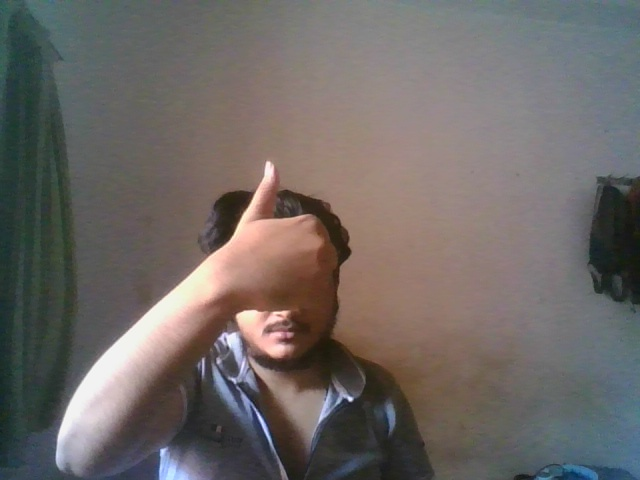ThumbsUp: (219, 159, 338, 312)
